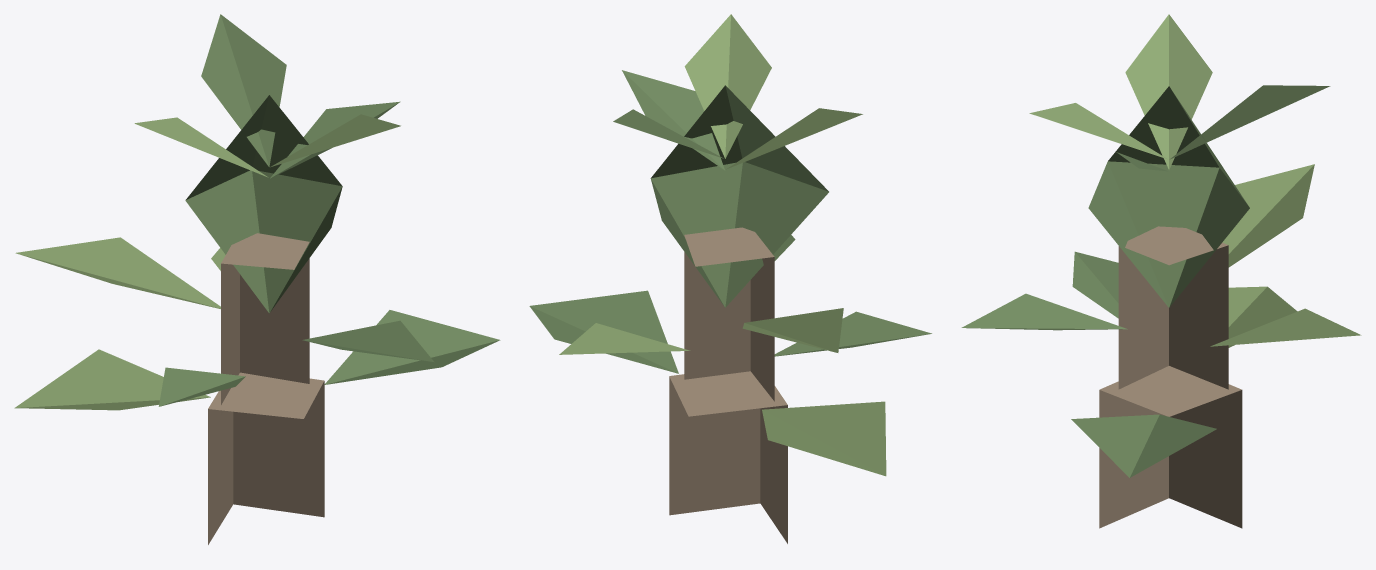
File: guan.moli@seedling__summer.glb
The picture shows the model from 3 angles, left to right: view 1: azimuth 30°, elevation 25°; view 2: azimuth 150°, elevation 25°; view 3: azimuth 270°, elevation 25°; orthographic projection.
Visible parts, largest first — view 1: guan.moli@seedling__summer; view 2: guan.moli@seedling__summer; view 3: guan.moli@seedling__summer.
Part boxes in pixels (bbox=[...]): guan.moli@seedling__summer: bbox=[14, 14, 500, 544]; guan.moli@seedling__summer: bbox=[529, 14, 931, 543]; guan.moli@seedling__summer: bbox=[961, 14, 1361, 528].
Size of the model in its own units: 0.1101 by 0.1133 by 0.0899.
